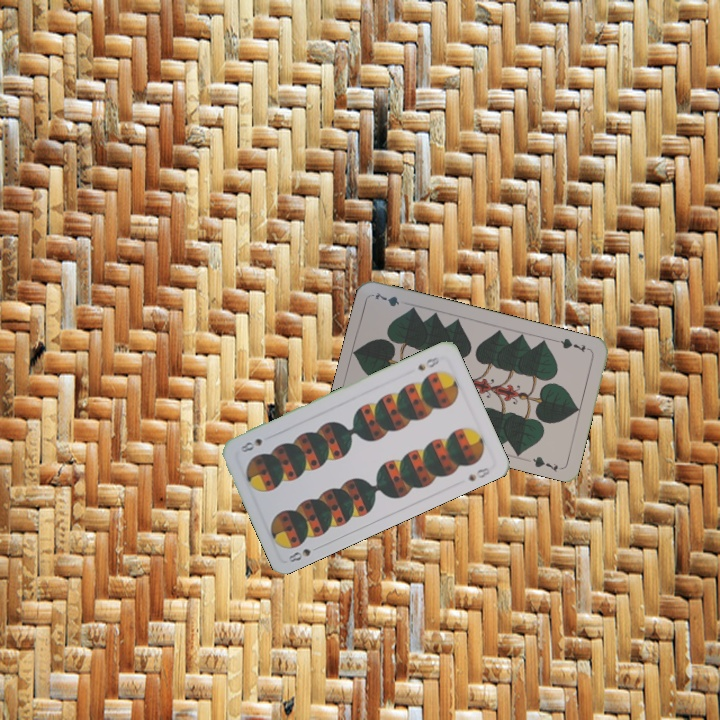G7: (553, 334, 593, 355)
S8: (284, 542, 323, 565), (414, 353, 441, 373)
